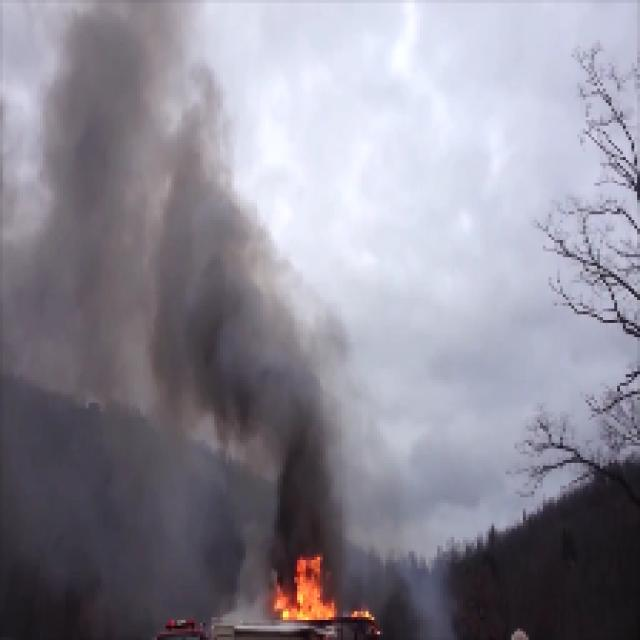fire: (276, 552, 344, 640)
smoke: (11, 0, 231, 591), (238, 210, 340, 546)
